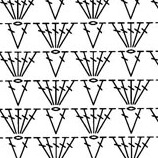enseble_chain: (86, 103, 122, 139), (46, 75, 82, 111), (11, 104, 46, 140), (50, 18, 84, 55), (125, 17, 158, 55), (12, 47, 46, 83), (87, 47, 121, 82), (105, 16, 136, 54), (29, 73, 60, 110), (119, 105, 152, 139), (29, 17, 59, 53), (69, 103, 98, 139), (45, 106, 76, 139), (68, 46, 97, 81), (107, 76, 136, 110), (122, 48, 151, 81), (47, 49, 76, 81), (8, 78, 37, 110), (0, 105, 23, 138), (128, 133, 158, 158), (87, 22, 111, 53), (12, 22, 36, 53), (0, 49, 22, 79), (55, 134, 81, 158), (88, 135, 111, 158), (14, 135, 36, 158), (124, 79, 140, 105), (5, 0, 22, 22), (80, 0, 97, 21), (14, 0, 29, 21), (89, 0, 102, 19)
fan: (72, 104, 98, 138), (78, 21, 99, 52), (0, 49, 21, 79), (55, 134, 81, 158), (113, 134, 134, 158), (79, 135, 98, 158), (10, 108, 26, 135), (86, 51, 102, 77), (4, 135, 22, 158), (12, 51, 27, 77), (42, 135, 58, 158), (126, 136, 139, 158), (51, 136, 63, 158)
